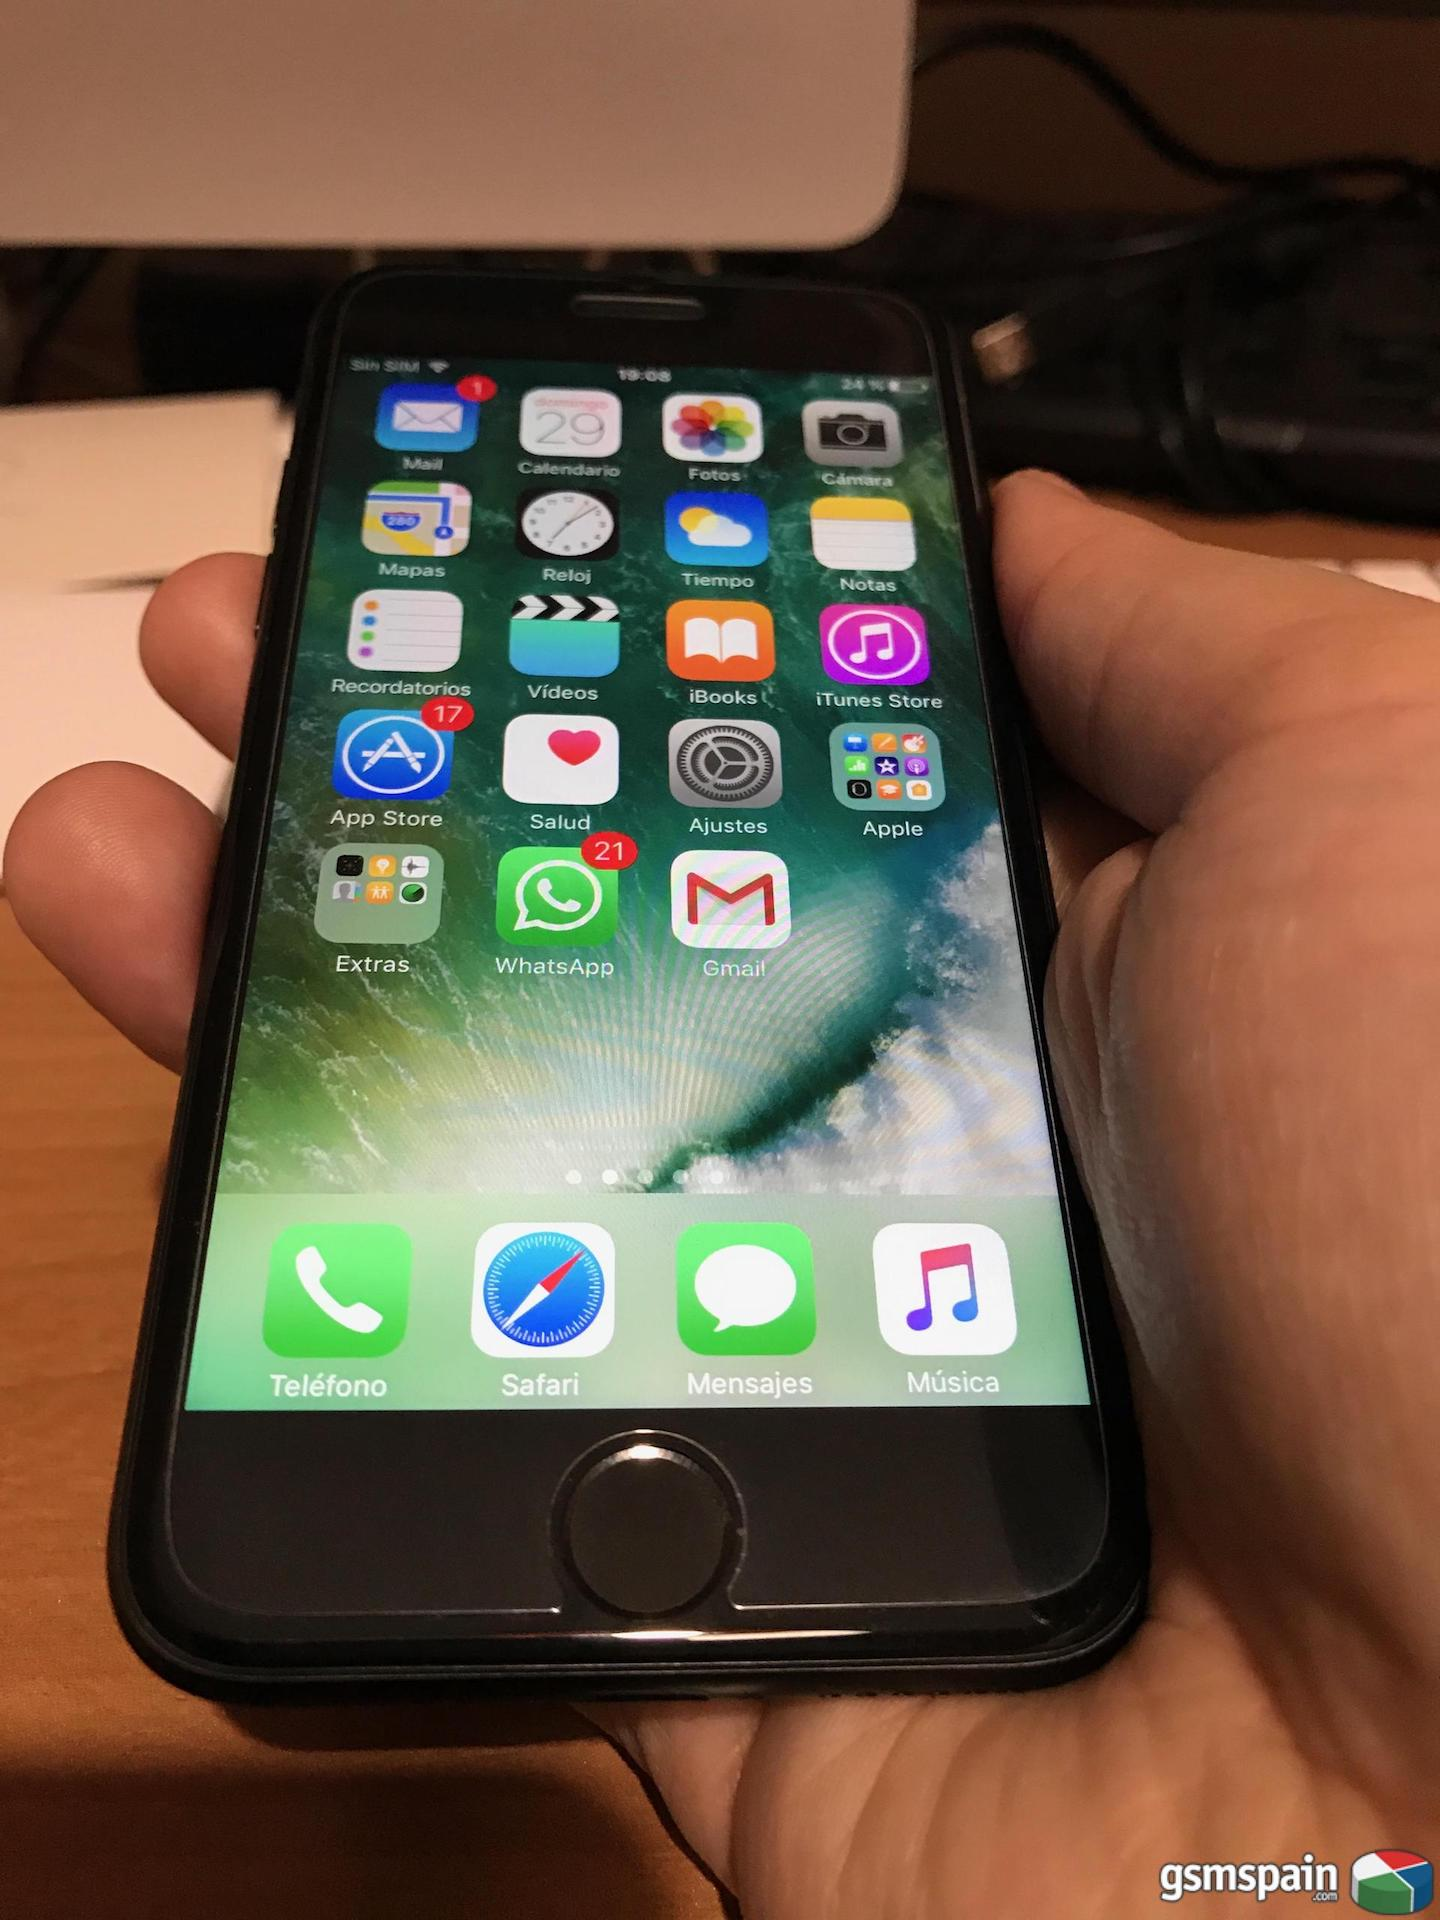smartphone: (104, 262, 1154, 1705)
